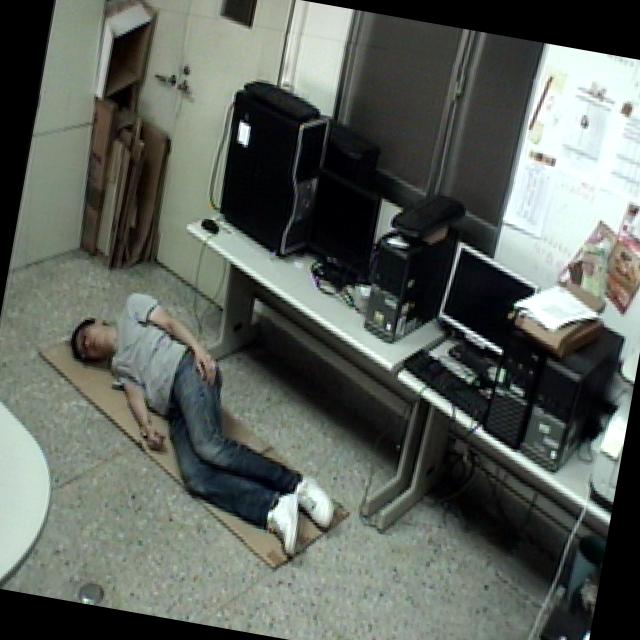lie: (34, 268, 387, 577)
